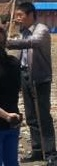boots: (23, 151, 42, 161), (0, 159, 24, 166)
